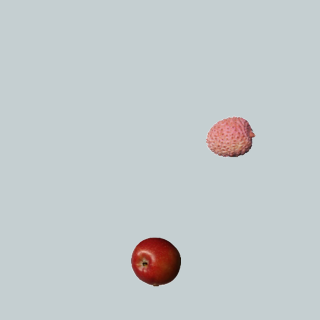Apple Braeburn: (130, 236, 180, 286)
Lychee: (205, 111, 255, 161)
